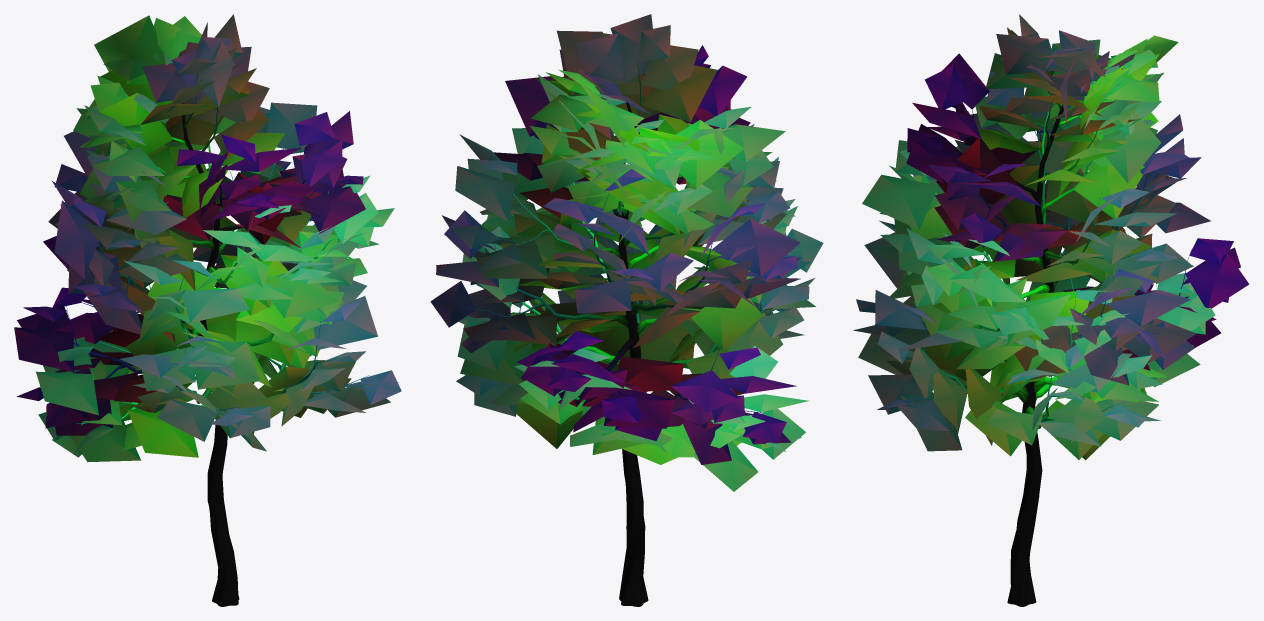
The model's file is SM_WLTree_09.FBX.
3 renders of one model, left to right at view 1: azimuth 30°, elevation 25°; view 2: azimuth 150°, elevation 25°; view 3: azimuth 270°, elevation 25°, orthographic. The views are drawn at different scales.
Visible parts, largest first — view 1: SM_WLTree_09_LOD0; view 2: SM_WLTree_09_LOD0; view 3: SM_WLTree_09_LOD0.
Boxes of the visible parts, box(x1,y1,x2,y2) form: SM_WLTree_09_LOD0: box(14, 14, 401, 606); SM_WLTree_09_LOD0: box(430, 14, 823, 606); SM_WLTree_09_LOD0: box(853, 14, 1249, 606).
Size of what is drawn, in the model's own units: 577 by 573 by 909.
